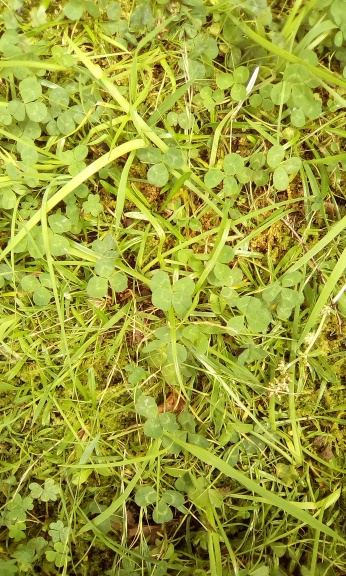4leaf: (149, 271, 195, 315)
